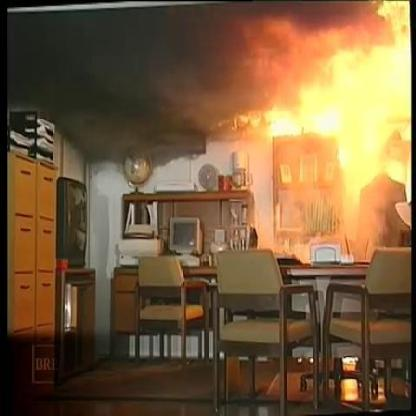Fire: (246, 0, 411, 222)
